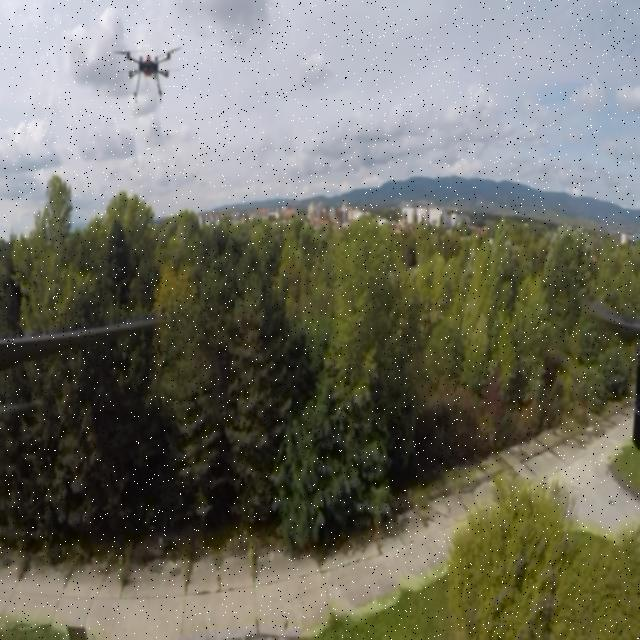UAV: (109, 35, 187, 109)
